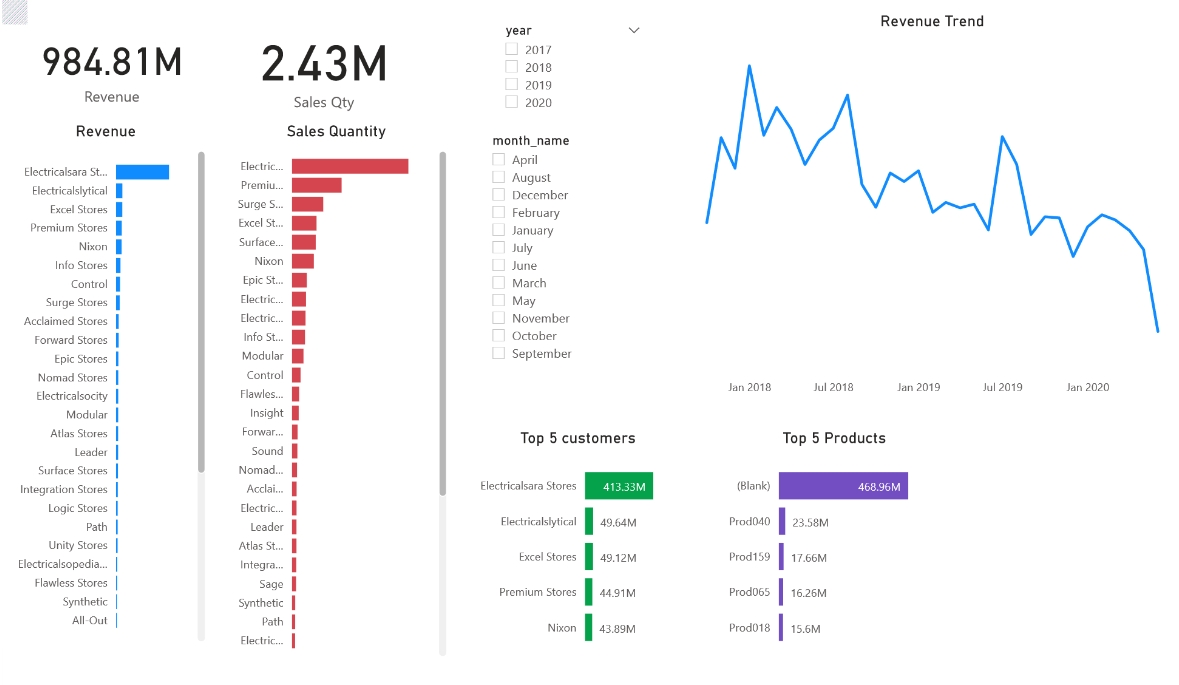

The page's visual inventory and layout, read from the dashboard file:
{"tool":"powerbi","page":{"name":"Page 1","canvas":[1280,720],"ordinal":0},"visuals":[{"type":"card","fields":{"Values":["BaseMeasures.Revenue"]},"box":[0,0,237.3,118.7],"z":0},{"type":"card","fields":{"Values":["BaseMeasures.Sales Qty"]},"box":[224.2,0,247.7,118.5],"z":1000},{"type":"barChart","title":"Revenue","fields":{"Y":["BaseMeasures.Revenue"],"Category":["sales customers.custmer_name"]},"box":[0,118.5,224.2,565.8],"z":2000},{"type":"barChart","title":"Sales Quantity","fields":{"Y":["BaseMeasures.Sales Qty"],"Category":["sales customers.custmer_name"]},"box":[237,118.5,246.6,581.8],"z":3000},{"type":"slicer","fields":{"Values":["sales date.year"]},"box":[530.6,6.4,170.8,119.6],"z":3001},{"type":"slicer","fields":{"Values":["sales date.month_name"]},"box":[515.6,126,158,297.8],"z":3002},{"type":"barChart","title":"Top 5 customers","fields":{"Category":["sales customers.custmer_name"],"Y":["BaseMeasures.Revenue"]},"box":[502.8,449.4,239.1,250.9],"z":3003},{"type":"barChart","title":"Top 5 Products","fields":{"Y":["BaseMeasures.Revenue"],"Category":["sales products.product_code"]},"box":[775,449.4,246.6,250.9],"z":3004},{"type":"lineChart","title":"Revenue Trend","fields":{"Y":["BaseMeasures.Revenue"],"Category":["sales date.cy_date"]},"box":[742,0,523.1,423.8],"z":3005}]}

Visuals, with their boxes on the page's 1280x720 design canvas (x1, y1, x2, y2). These are canvas units, not pixel positions in the 1179x685 screenshot, which may show the page scaled, cropped or inside an application window:
card - BaseMeasures.Revenue: box(0, 0, 237, 119)
card - BaseMeasures.Sales Qty: box(224, 0, 472, 118)
"Revenue" barChart: box(0, 118, 224, 684)
"Sales Quantity" barChart: box(237, 118, 484, 700)
slicer - sales date.year: box(531, 6, 701, 126)
slicer - sales date.month_name: box(516, 126, 674, 424)
"Top 5 customers" barChart: box(503, 449, 742, 700)
"Top 5 Products" barChart: box(775, 449, 1022, 700)
"Revenue Trend" lineChart: box(742, 0, 1265, 424)
